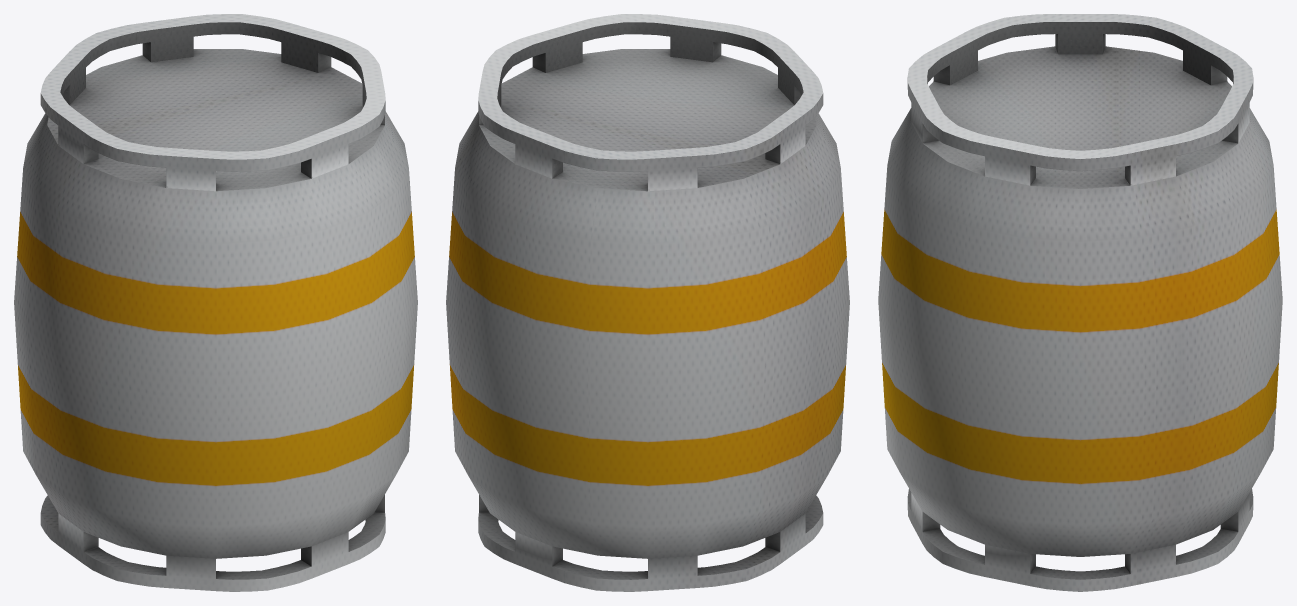
Rendered from Canister.fbx.
The picture shows the model from 3 angles, left to right: view 1: azimuth 30°, elevation 25°; view 2: azimuth 150°, elevation 25°; view 3: azimuth 270°, elevation 25°; orthographic projection.
Visible parts, largest first — view 1: Canister; view 2: Canister; view 3: Canister.
Boxes of the visible parts, <box> form: Canister: <box>14,14,417,591</box>; Canister: <box>446,14,849,591</box>; Canister: <box>878,14,1282,591</box>.
Bounding box in the file's own units: 1.99 × 2.35 × 1.99.
